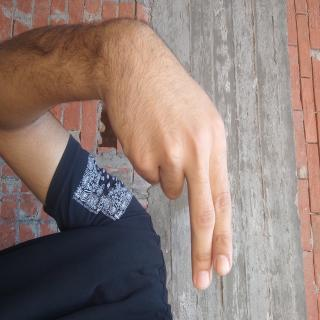AYN: (10, 108, 226, 296)
